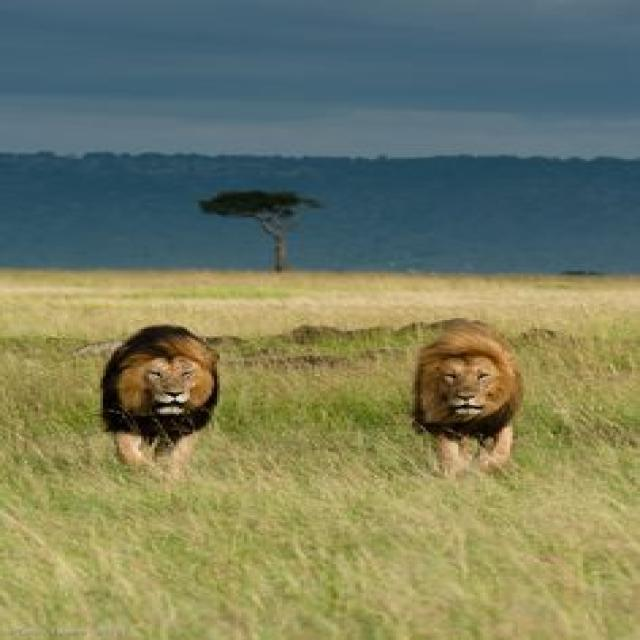lions: (85, 314, 253, 490), (388, 312, 543, 495)
